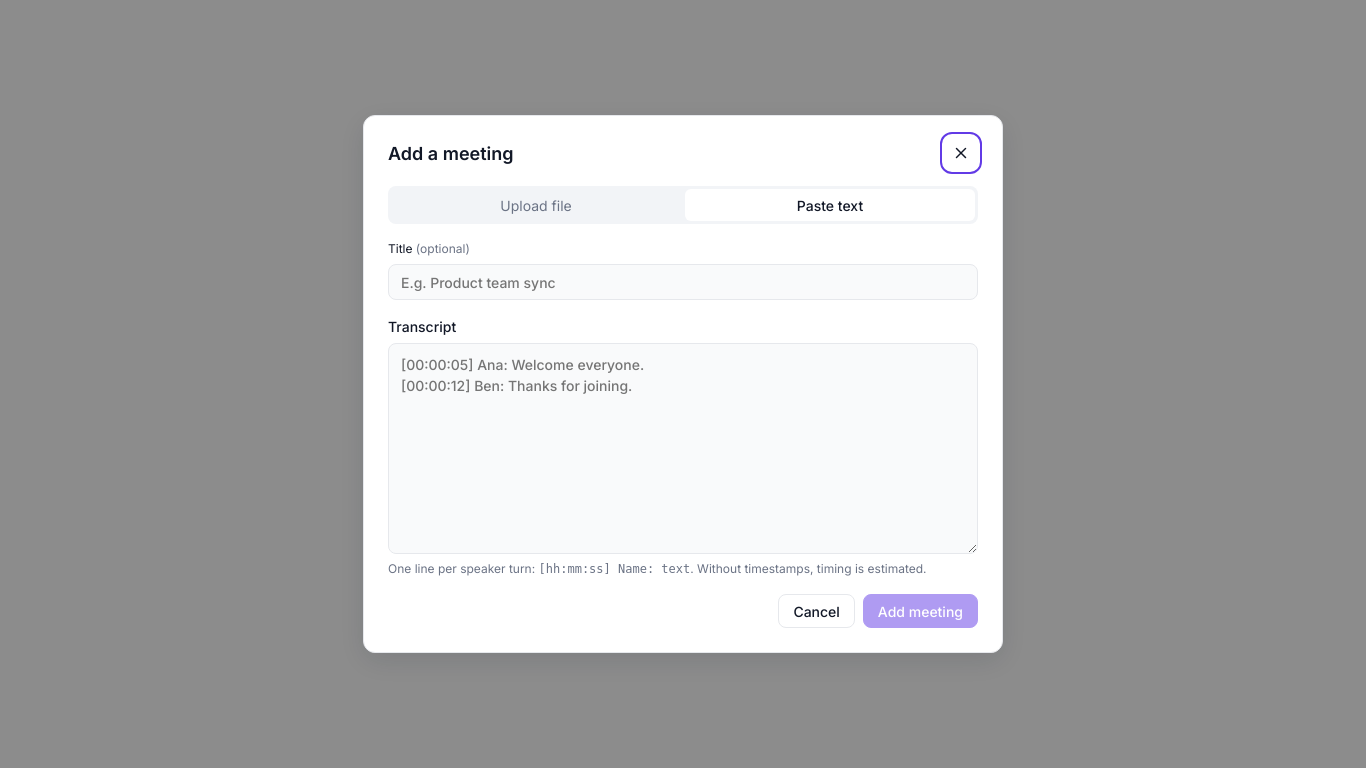
Test case: NewMeetingModal › shows the server's reason inline and stays open
Replace the text in the text box named "Transcript text" with "?" at (683, 448), box [388,343,978,554]
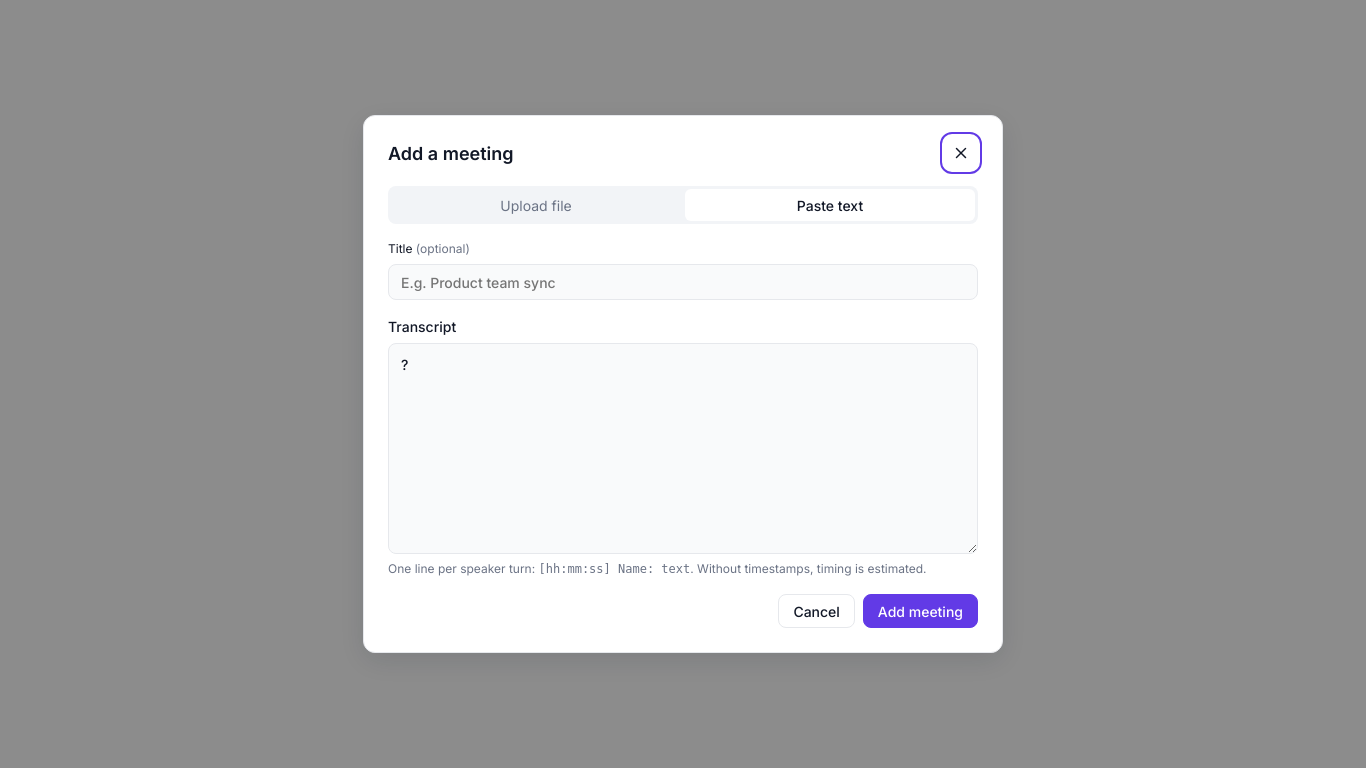
Click the button "Add meeting" at (920, 611), box [863,594,978,628]
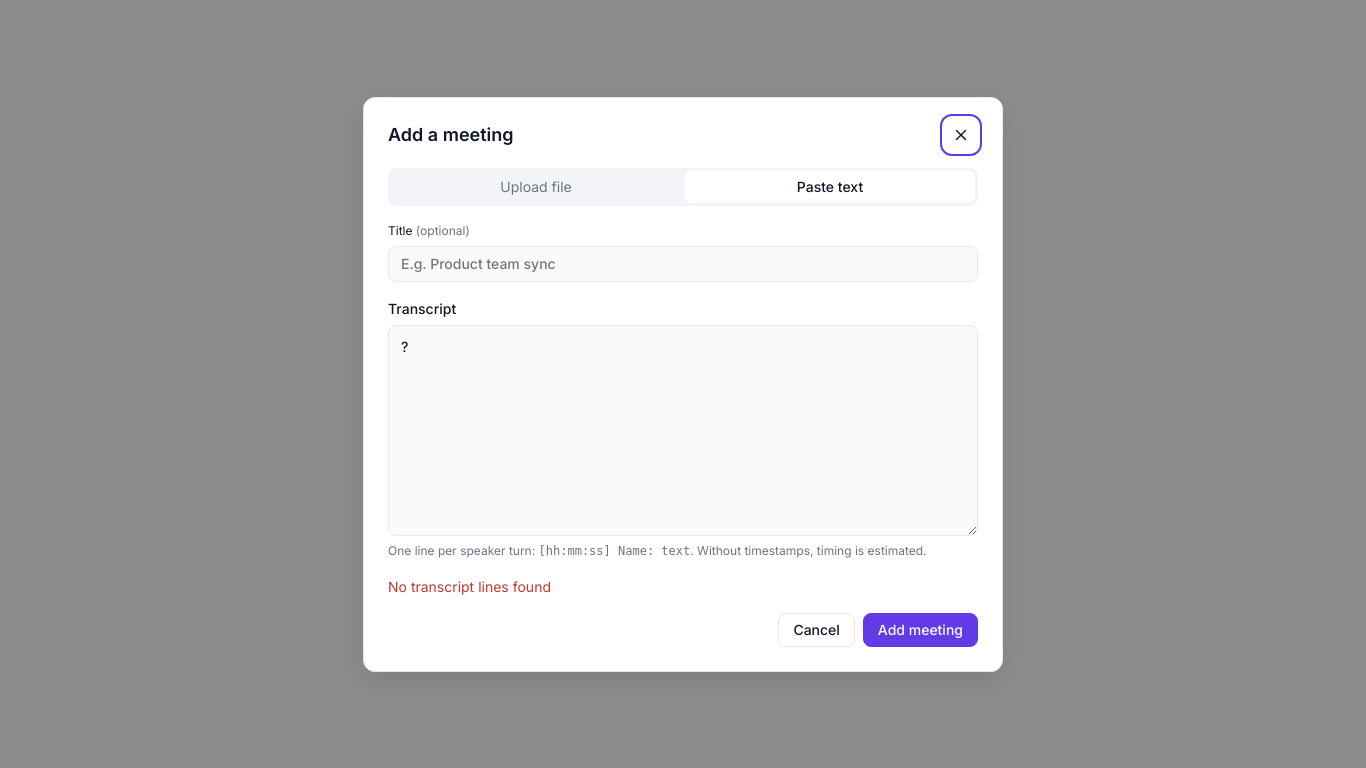
Check: the button "Add meeting" is enabled, box [863,612,978,646]
Check: the message reads "No transcript lines found", box [388,578,551,594]
